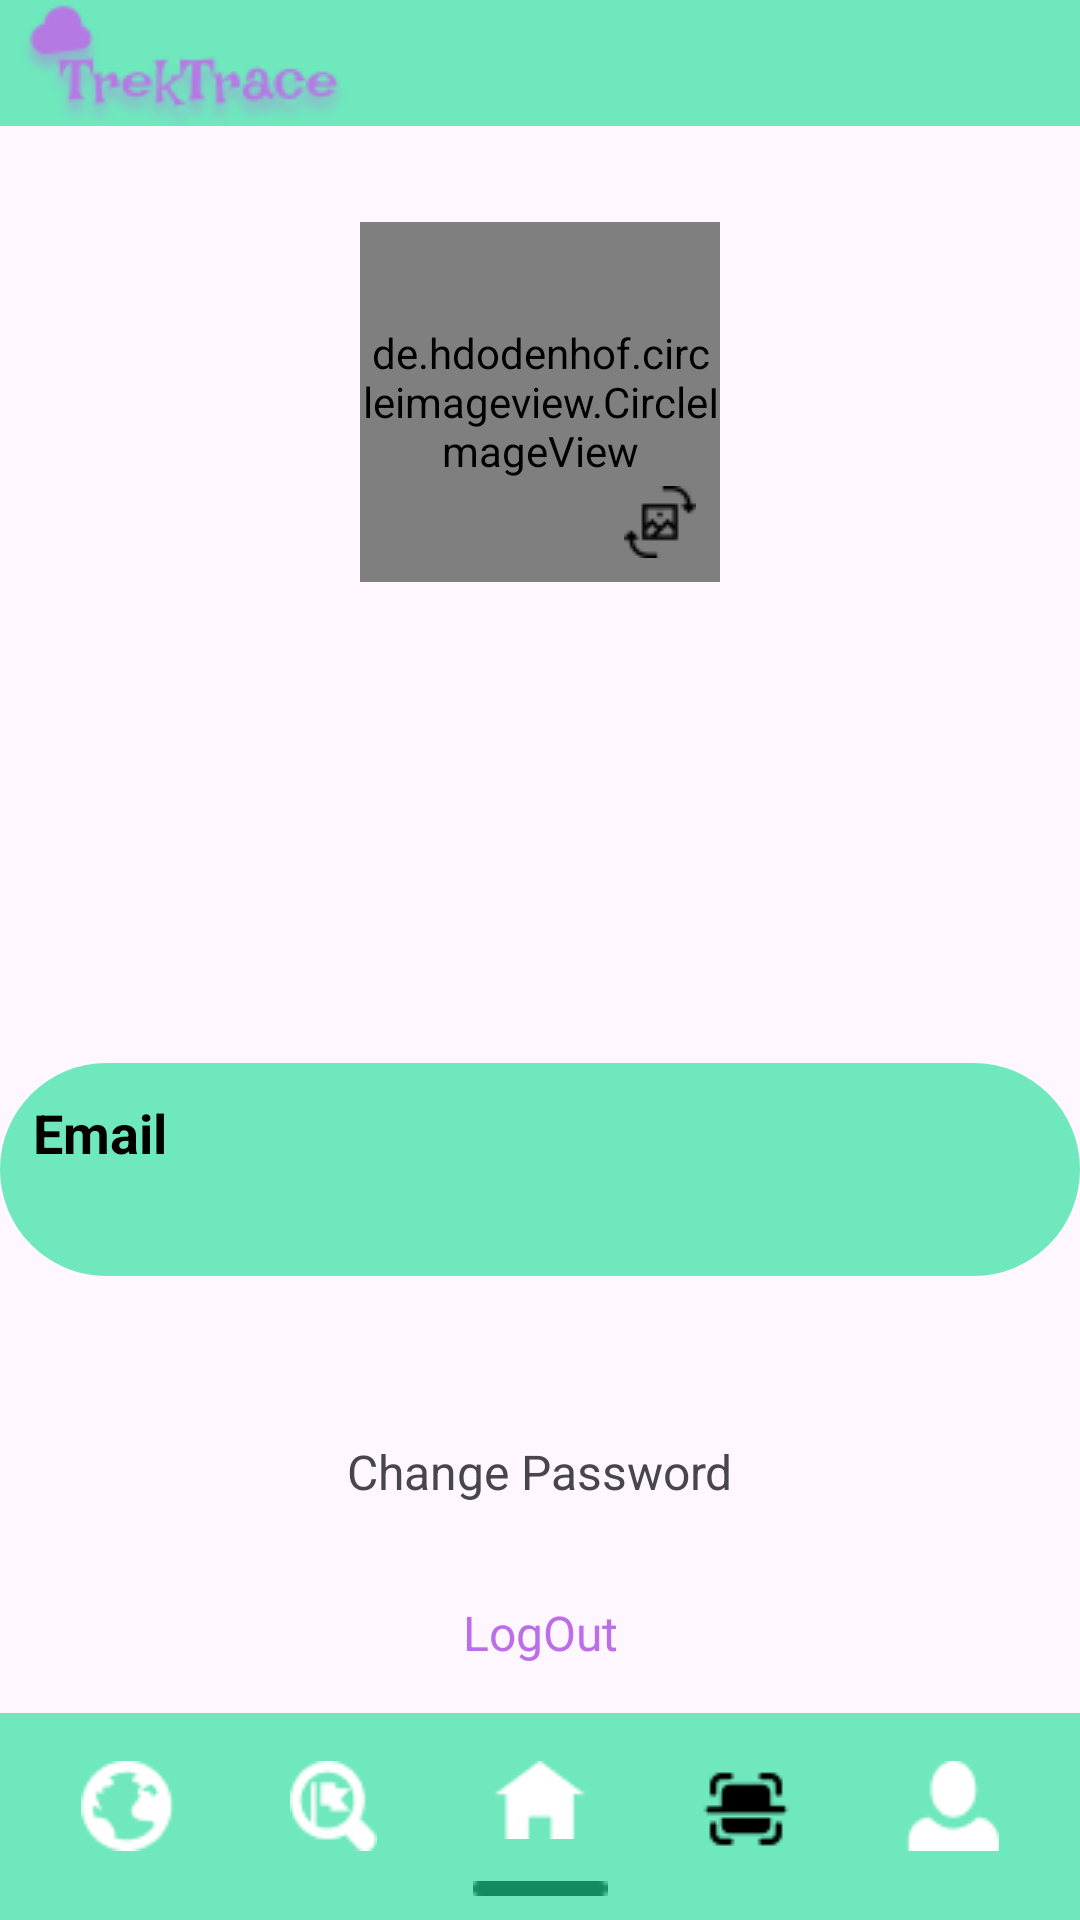

Named icons in this screenshot (1080x1920) and their centers, point (x, y):
editprofilepicture: point (660, 522)
explore world by map: point (126, 1806)
home: point (539, 1800)
profile: point (953, 1806)
scan: point (746, 1809)
search by location: point (333, 1806)
